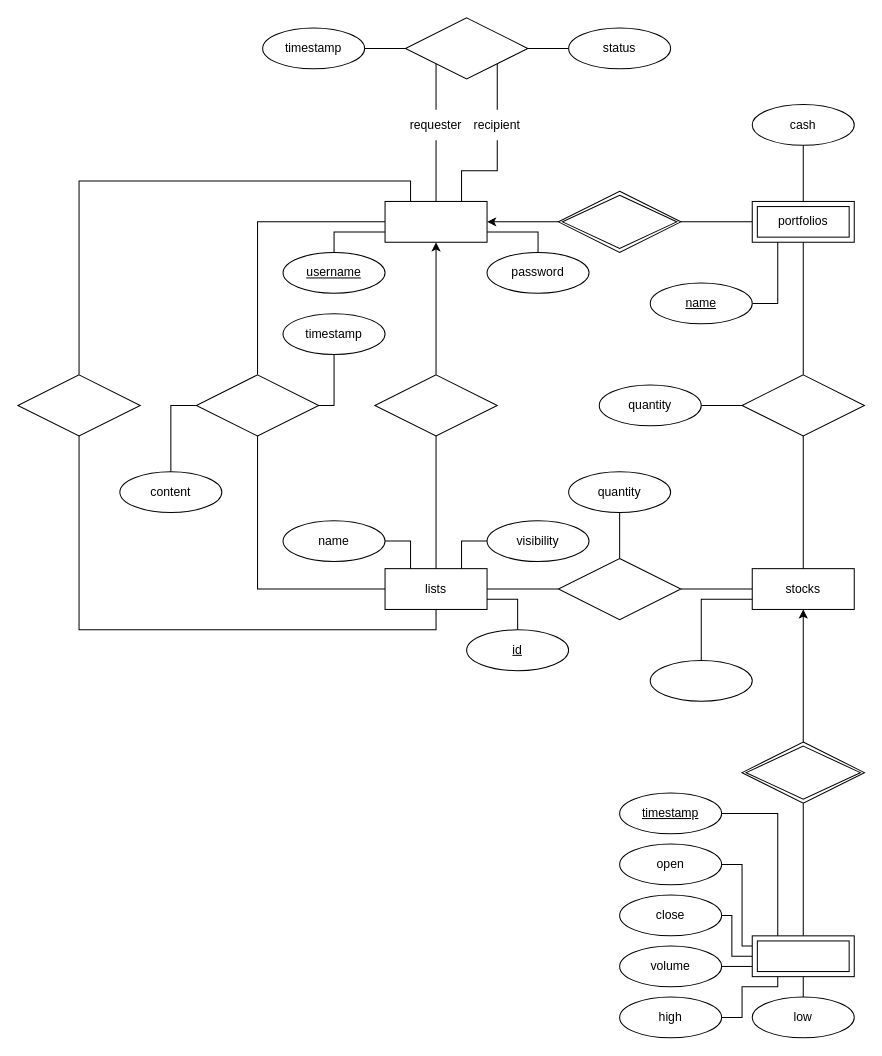
The diagram is 882 pixels wide and 1056 high, and some of its shapes have lost their labels. Here are the shapes that lost their labels. From the top down, the centre of each, then its label:
At pixel 466 48: "friends".
At pixel 435 221: "users".
At pixel 619 221: "own".
At pixel 78 405: "shared with".
At pixel 257 405: "review".
At pixel 435 405: "create".
At pixel 802 405: "hold".
At pixel 619 588: "contain".
At pixel 700 680: "symbol".
At pixel 802 772: "recorded for".
At pixel 802 956: "daily price".
